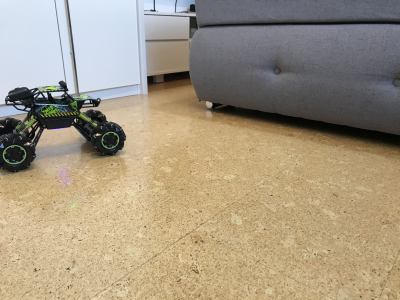remote control car: (1, 78, 128, 173)
